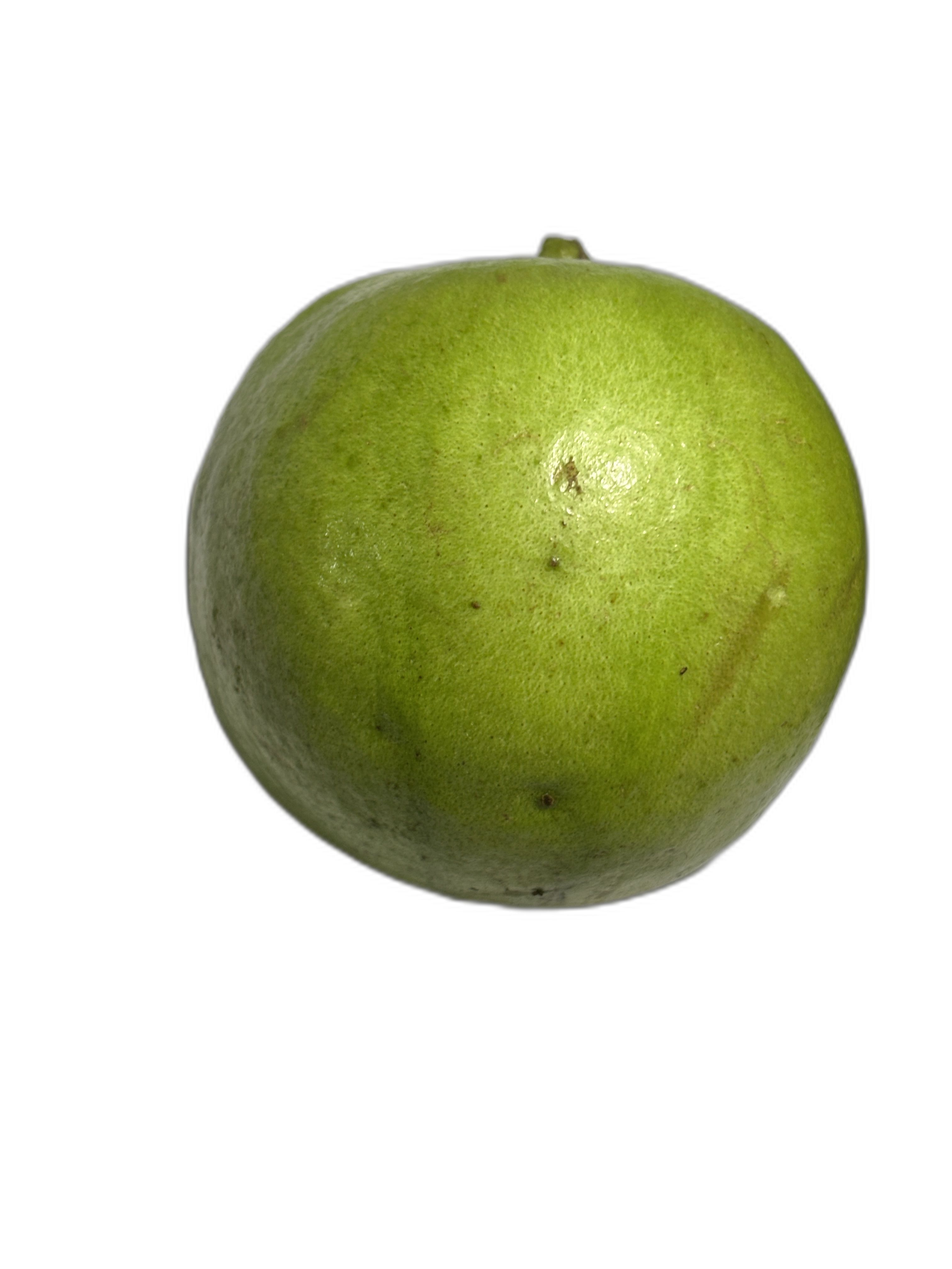guava: (187, 193, 861, 1209)
